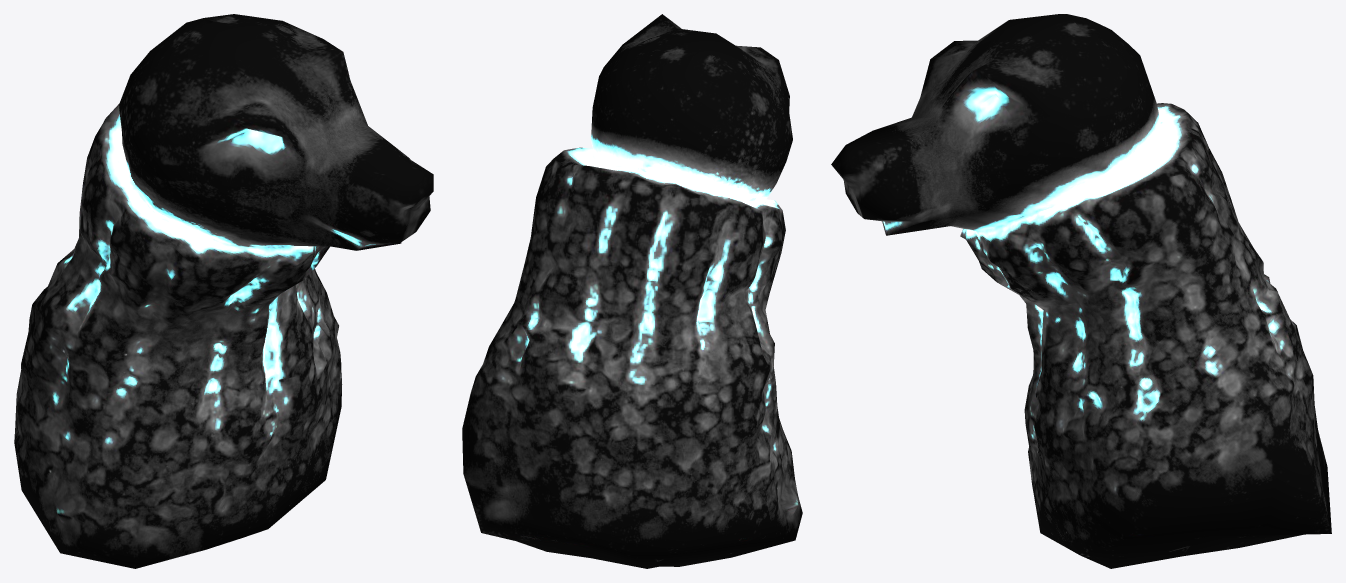
Rendered from jameson_bear.glb.
The picture shows the model from 3 angles, left to right: view 1: azimuth 30°, elevation 25°; view 2: azimuth 150°, elevation 25°; view 3: azimuth 270°, elevation 25°; orthographic projection. The views are drawn at different scales.
Parts seen in each view (by area): view 1: jameson_mesh.export; view 2: jameson_mesh.export; view 3: jameson_mesh.export.
Part boxes in pixels (x1=…): jameson_mesh.export: x1=14, y1=14, x2=433, y2=568; jameson_mesh.export: x1=462, y1=14, x2=802, y2=568; jameson_mesh.export: x1=831, y1=14, x2=1331, y2=568.
Size of what is drawn, in the model's own units: 85.49 by 144 by 123.
1 material, 1 textured.
